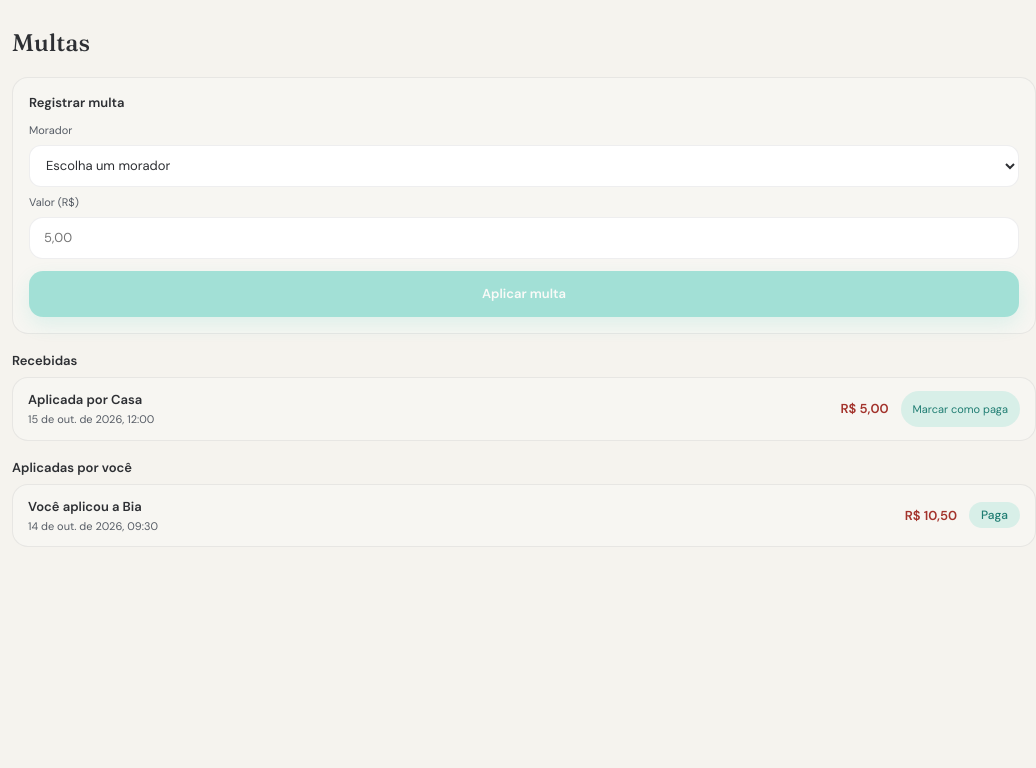
Test: FinesPanel › keeps the apply button disabled until a resident and a valid amount are chosen
This screenshot has width=1036, height=768.
Expected: the button "Aplicar multa" is disabled, [29,271,1019,317]
Select "Bia" in the dropdown labelled "Morador": (524, 166) [29,145,1019,187]
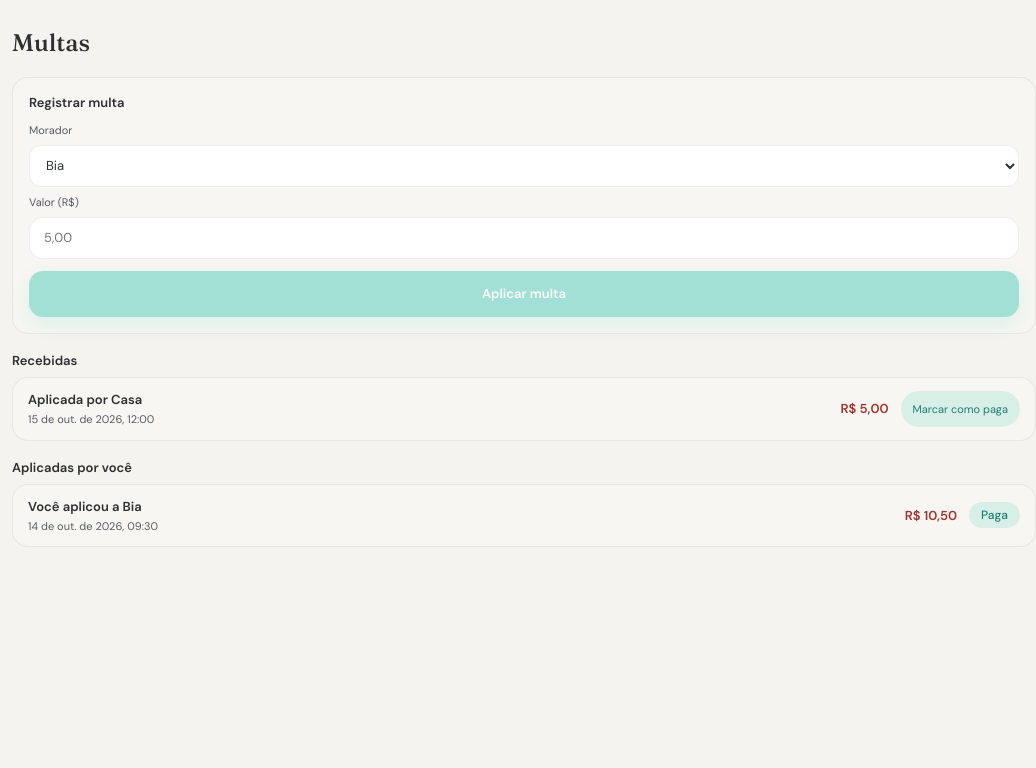
Expected: the button "Aplicar multa" is disabled, [29,271,1019,317]
In the field labelled "Valor (R$)": (524, 238) [29,217,1019,259], type "0"
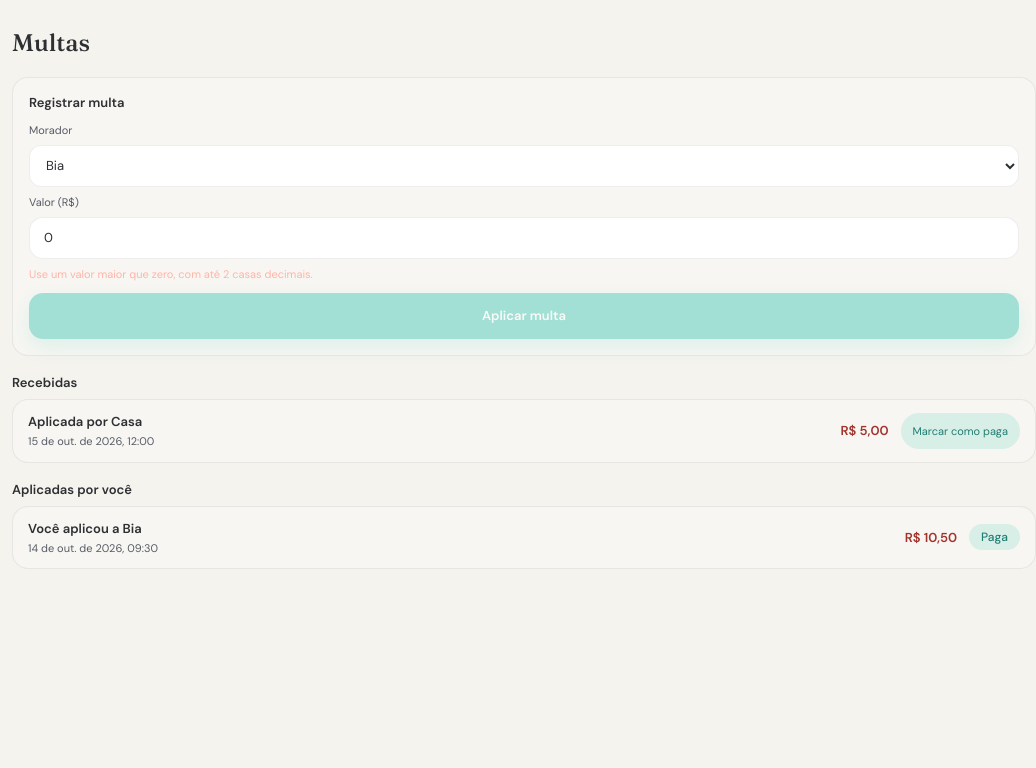
Expected: the button "Aplicar multa" is disabled, [29,293,1019,339]
Expected: the message shows "maior que zero", [29,267,313,281]
Replace the text in the field labelled "Valor (R$)" with "7,5": (524, 238) [29,217,1019,259]
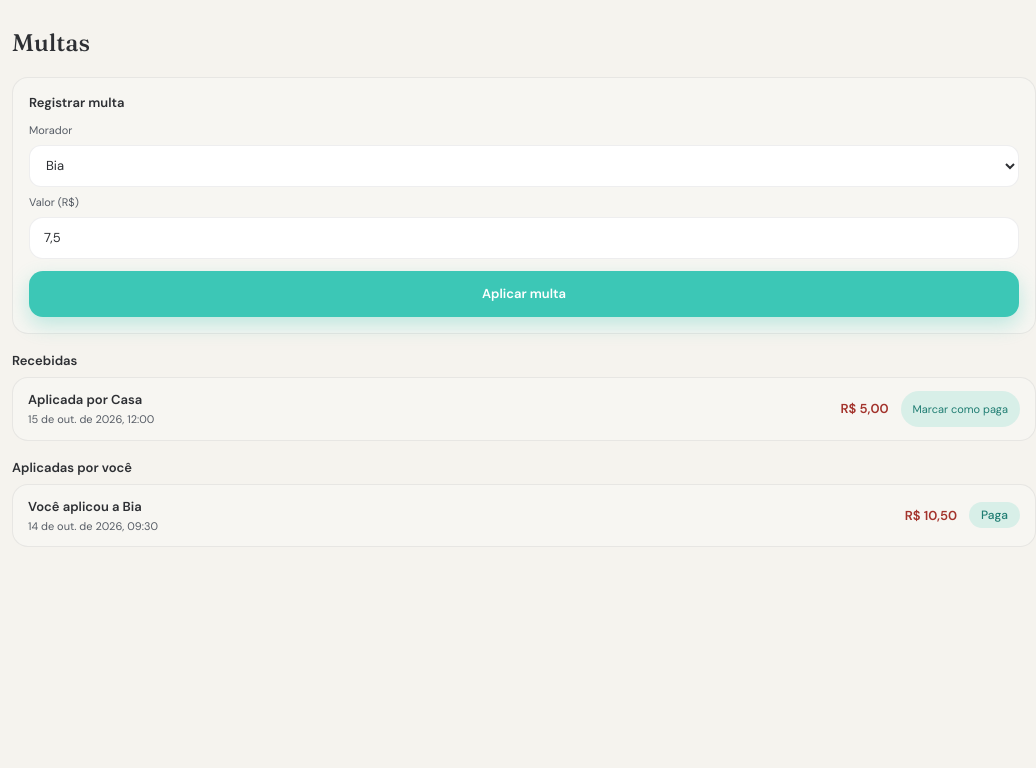
Expected: the button "Aplicar multa" is enabled, [29,271,1019,317]
